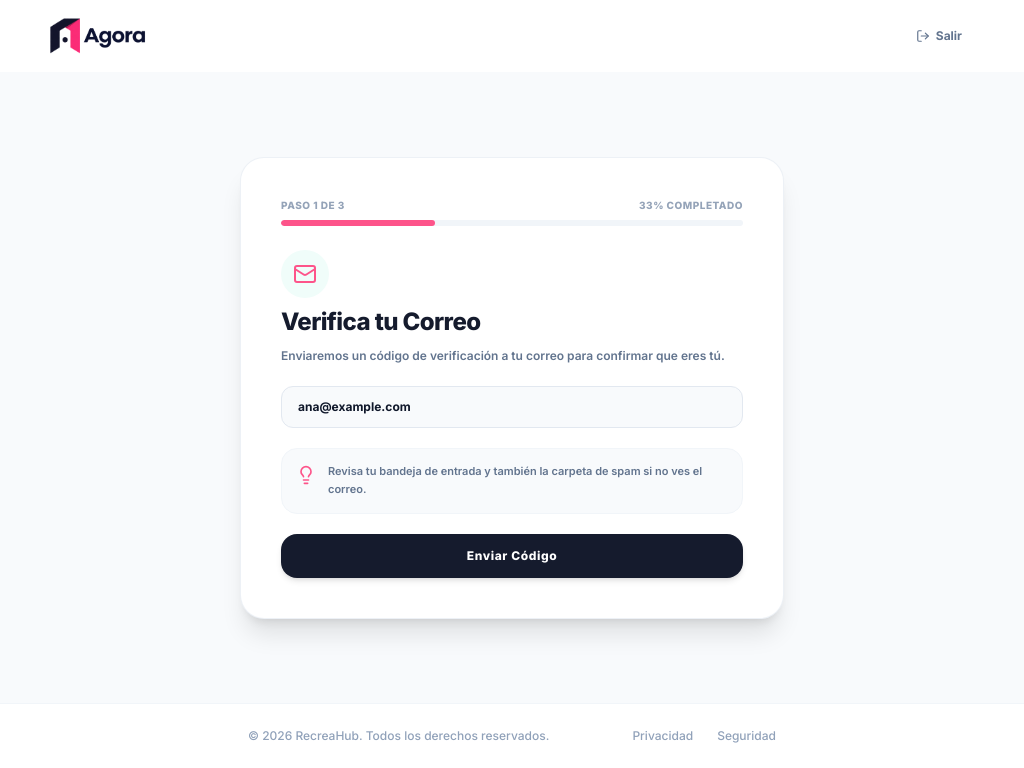
Scenario: verificación del correo › avanza al teléfono una vez verificado el correo
Click the button "Enviar Código".
click(512, 556)  # box [281, 534, 743, 578]
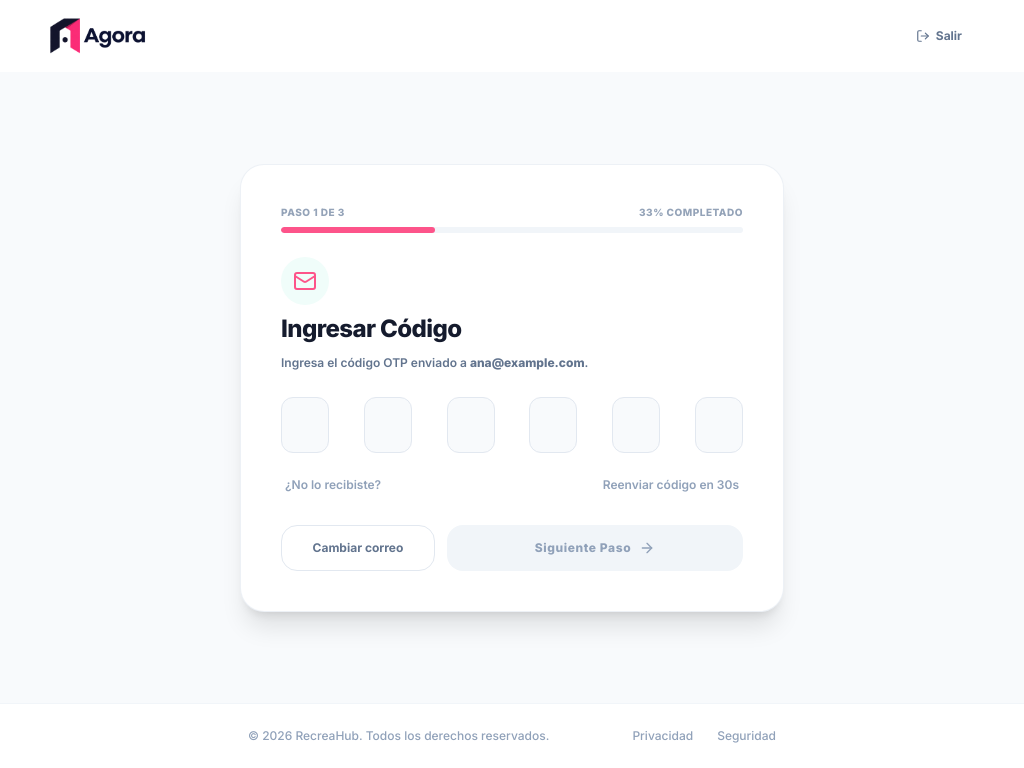
Check: the heading "Ingresar Código" is shown, box [281, 314, 462, 343]
Type "1" into the 1st field.
click(305, 425); type("1")  # box [281, 397, 329, 453]
Type "2" into the 2nd field.
click(388, 425); type("2")  # box [364, 397, 412, 453]
Type "3" into the 3rd field.
click(471, 425); type("3")  # box [447, 397, 495, 453]
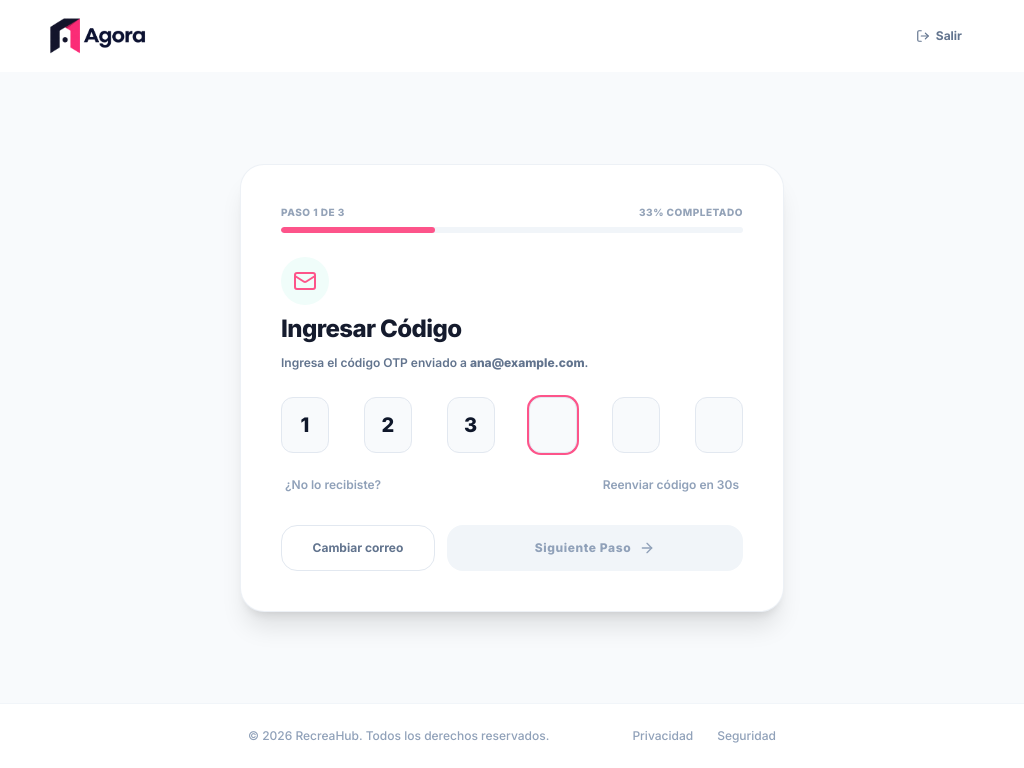
Type "4" into the 4th field.
click(553, 425); type("4")  # box [529, 397, 577, 453]
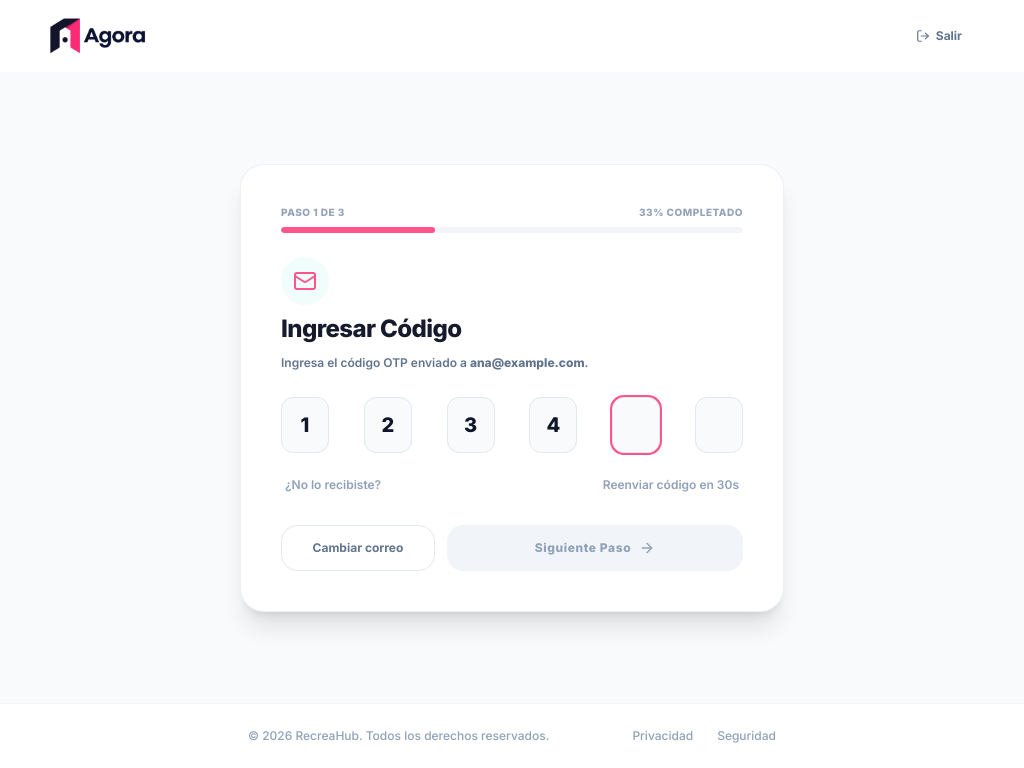
Type "5" into the 5th field.
click(636, 425); type("5")  # box [612, 397, 660, 453]
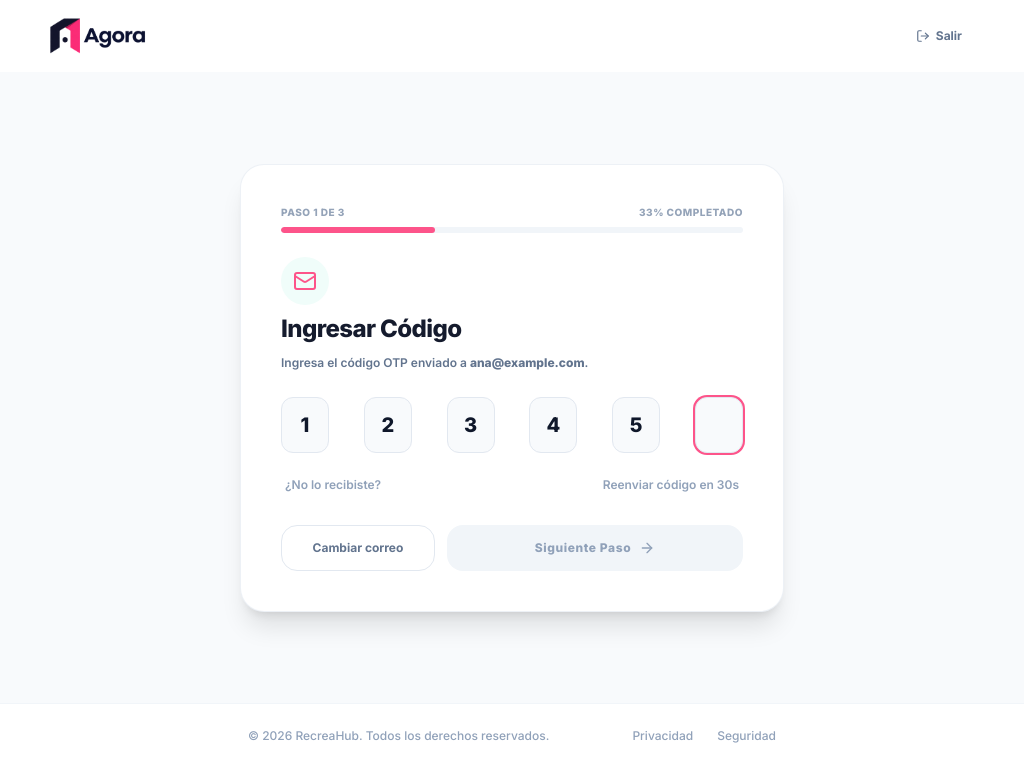
Type "6" into the 6th field.
click(719, 425); type("6")  # box [695, 397, 743, 453]
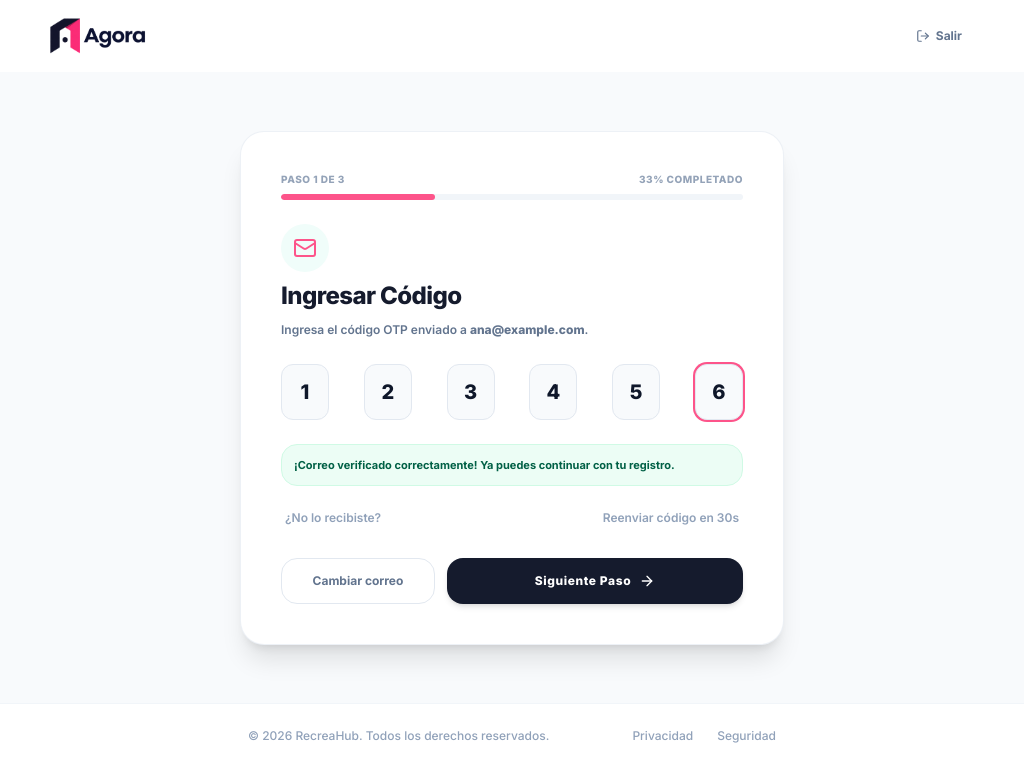
Check: the text "¡Correo verificado correctamente!" is shown, box [294, 458, 675, 472]
Click the button "Siguiente Paso".
click(595, 581)  # box [447, 558, 743, 604]
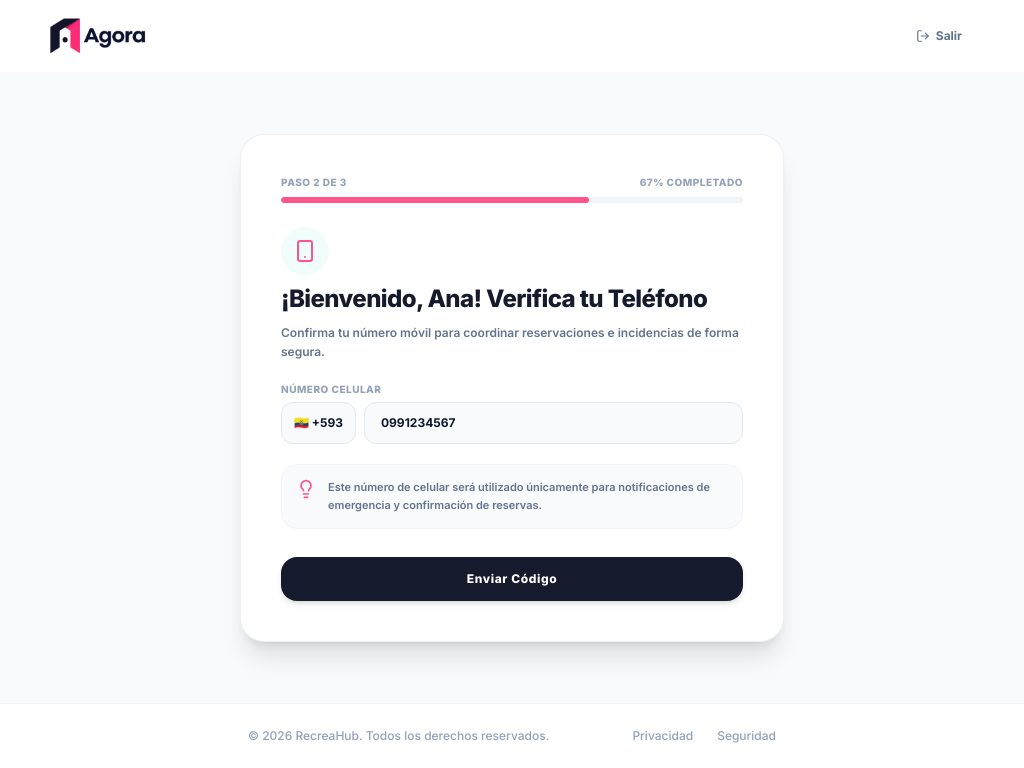
Check: the heading "¡Bienvenido, Ana! Verifica tu Teléfono" is shown, box [281, 283, 743, 315]
